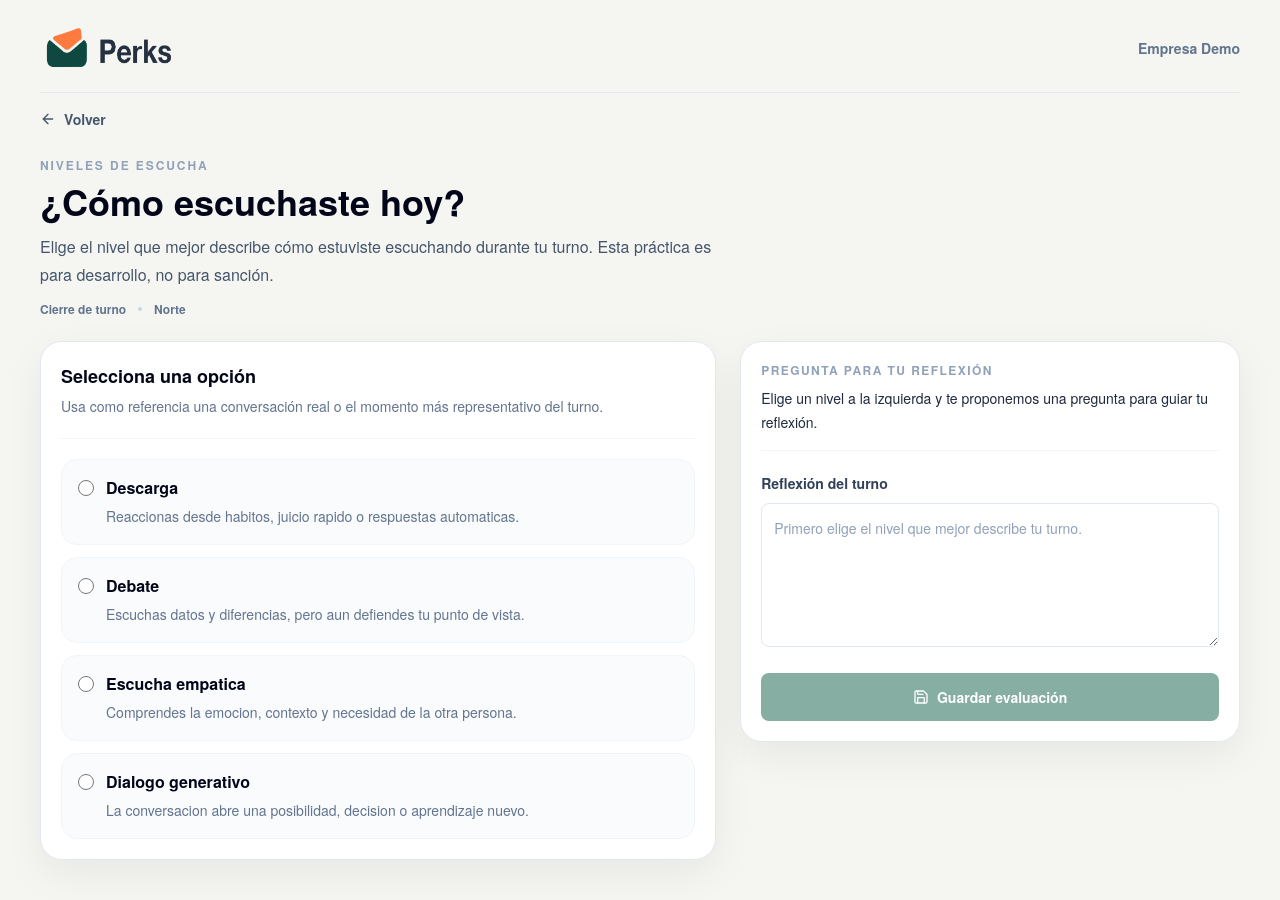
Test case: ListeningAssessmentView › saves the selected listening level and replaces the form with a thank-you state
This screenshot has width=1280, height=900.
Click the radio button labelled "Debate" at (86, 586), box [78,578,94,594]
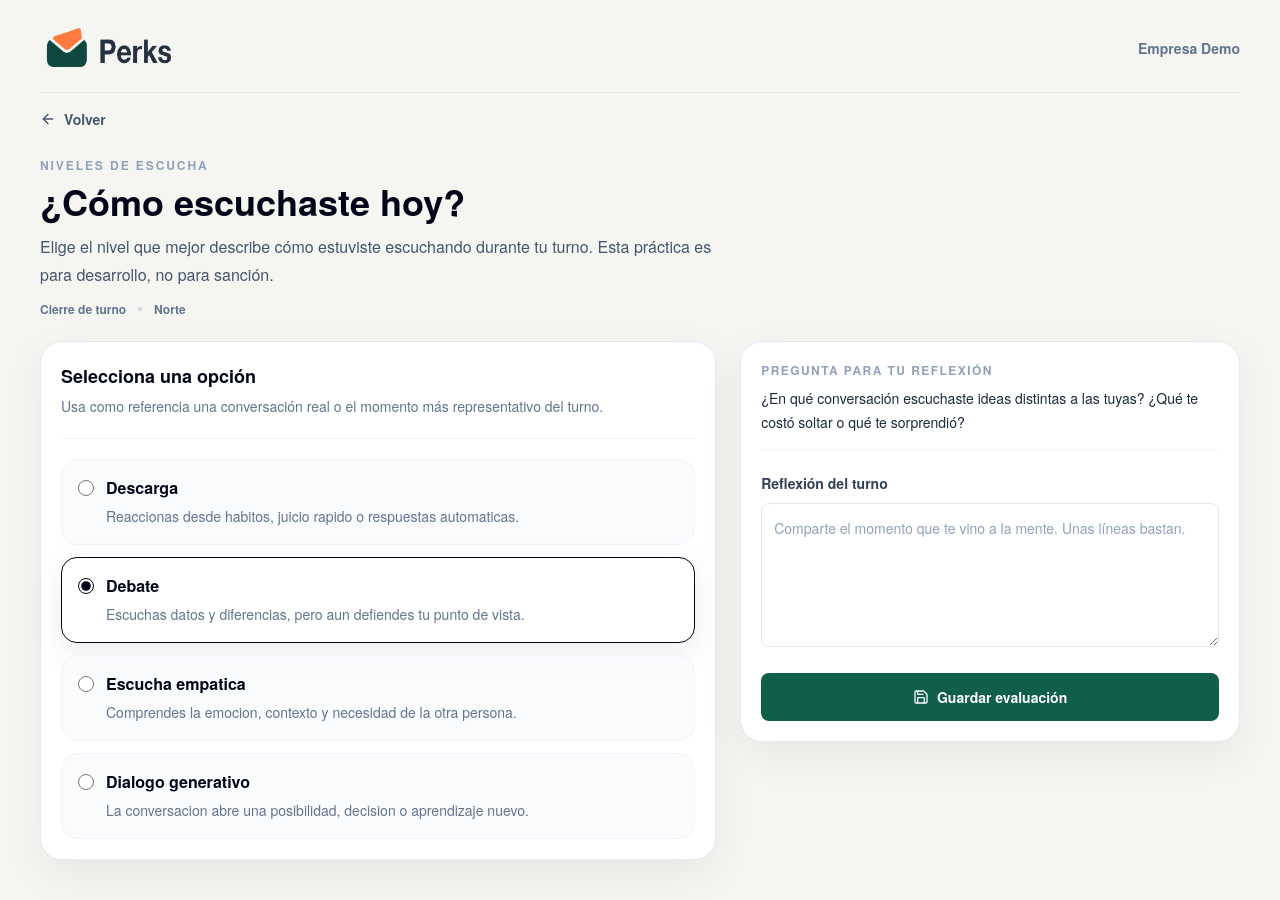
Check: the text "¿En qué conversación escuchaste ideas distintas a las tuyas? ¿Qué te costó soltar o qué te sorprendió?" is shown, box [761,388,1198,432]
Replace the text in the text box labelled "Reflexión del turno" with "Escuche con apertura durante una queja." at (990, 575), box [761,503,1219,647]
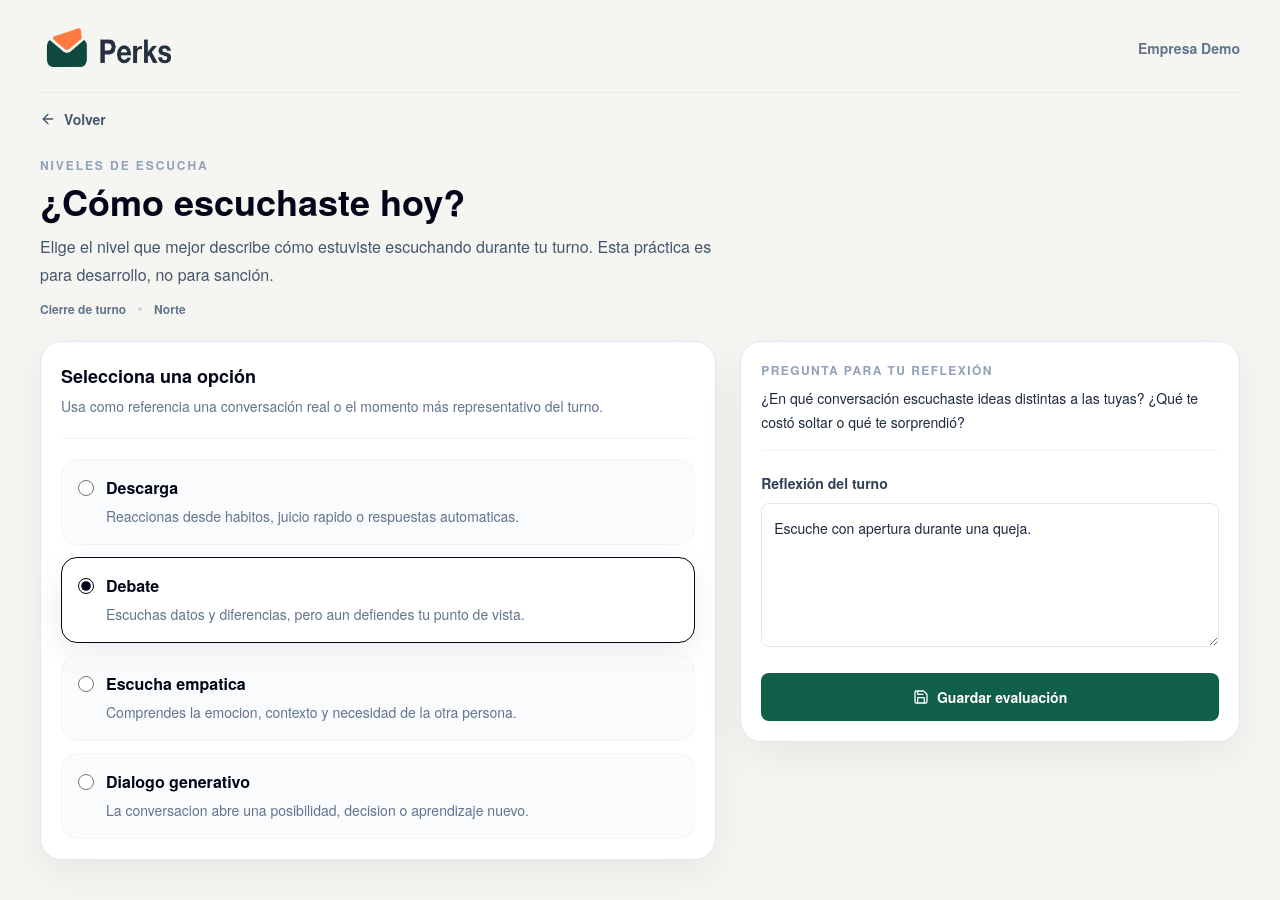
Click the button "Guardar evaluación" at (990, 697), box [761,673,1219,721]
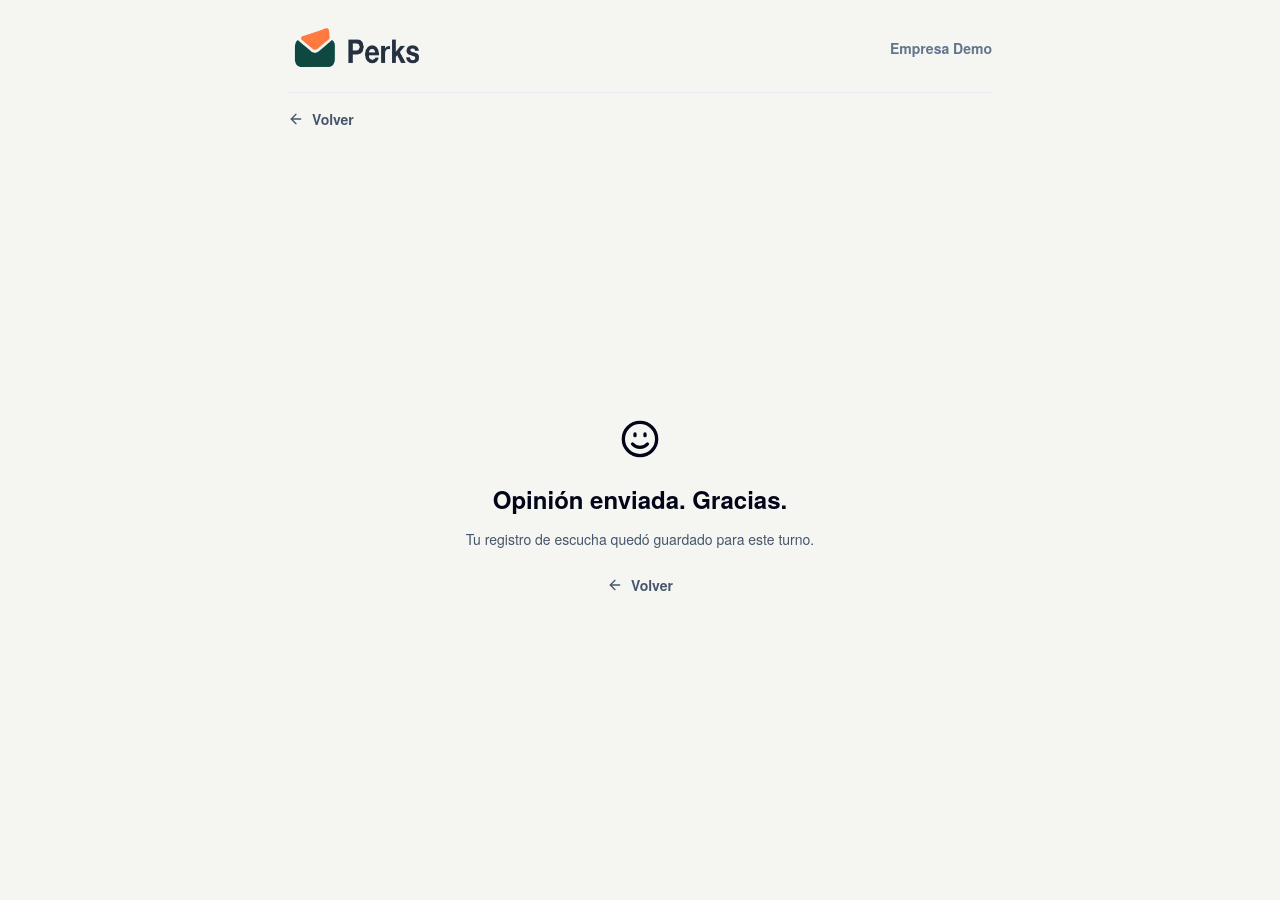
Check: the heading "Opinión enviada. Gracias." is shown, box [493,482,787,516]
Check: the heading "Selecciona una opción" is gone
